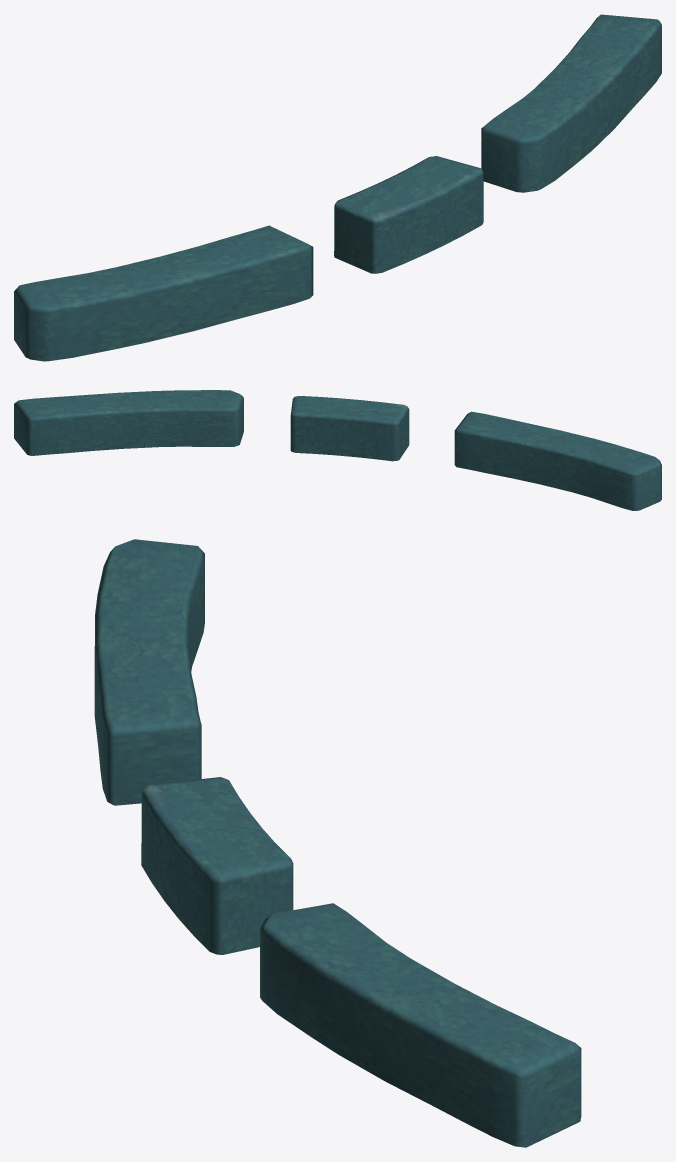
Rendered from pref_sm_beach_winter_techgrassny01b_mirror_beta_lv3.fbx.
3 views of the same model, one above another, from view 1: azimuth 30°, elevation 25°; view 2: azimuth 150°, elevation 25°; view 3: azimuth 270°, elevation 25° (orthographic). The views are drawn at different scales.
Parts seen in each view (by area): view 1: pref_sm_beach_winter_techgrassny01b_mirror_beta_lv3; view 2: pref_sm_beach_winter_techgrassny01b_mirror_beta_lv3; view 3: pref_sm_beach_winter_techgrassny01b_mirror_beta_lv3.
Boxes of the visible parts, x1=… form: pref_sm_beach_winter_techgrassny01b_mirror_beta_lv3: x1=14, y1=14, x2=661, y2=361; pref_sm_beach_winter_techgrassny01b_mirror_beta_lv3: x1=14, y1=390, x2=661, y2=510; pref_sm_beach_winter_techgrassny01b_mirror_beta_lv3: x1=94, y1=539, x2=581, y2=1147.
Size of the model in its own units: 21.08 by 1.48 by 8.08.
